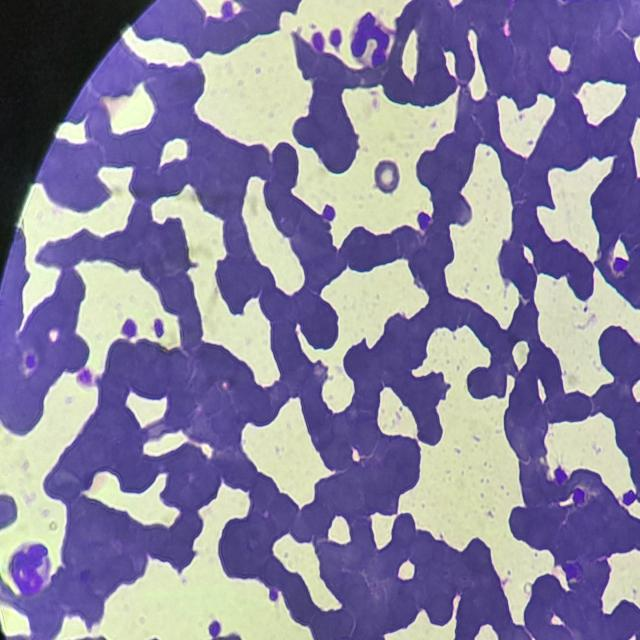Neutrofilo: (344, 11, 400, 76), (4, 542, 52, 592)
